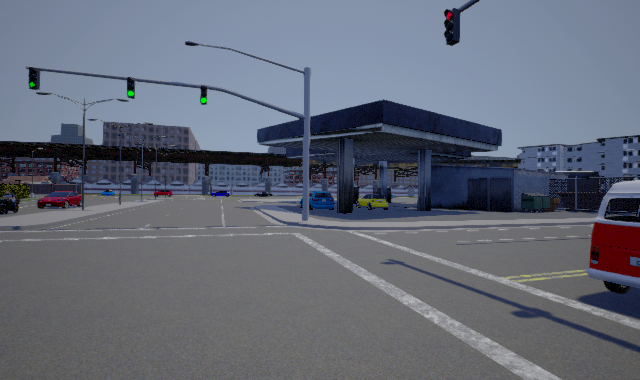traffic_light: (444, 8, 460, 46), (28, 67, 40, 90), (127, 77, 135, 99), (200, 85, 207, 105)
vehicle: (586, 180, 640, 294), (37, 191, 82, 209), (356, 194, 389, 210), (309, 191, 334, 210), (1, 196, 21, 214), (155, 187, 173, 199)
